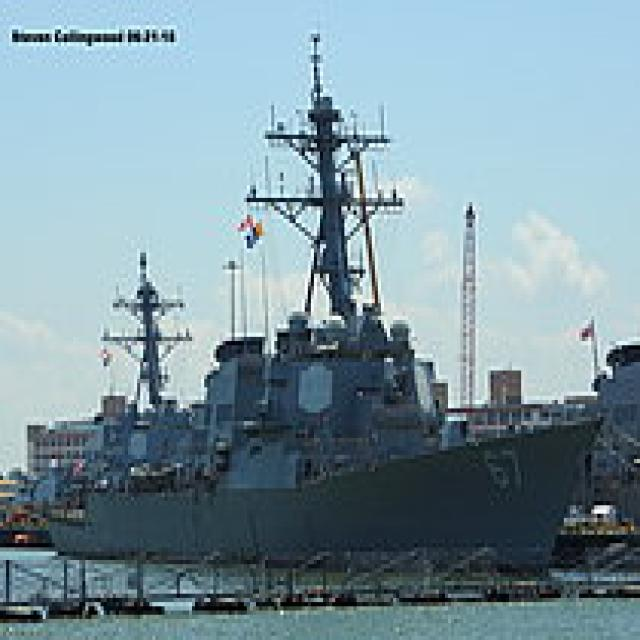Warship: (76, 26, 610, 568), (40, 244, 201, 539)
